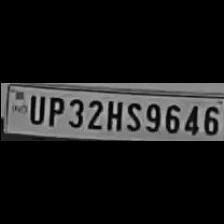2: (84, 96, 103, 130)
3: (64, 96, 84, 128)
4: (181, 102, 199, 134)
6: (160, 100, 180, 134), (200, 102, 220, 136)
9: (142, 100, 160, 132)
H: (104, 97, 122, 131)
P: (43, 94, 62, 128)
S: (124, 98, 142, 132)
U: (24, 93, 43, 125)
